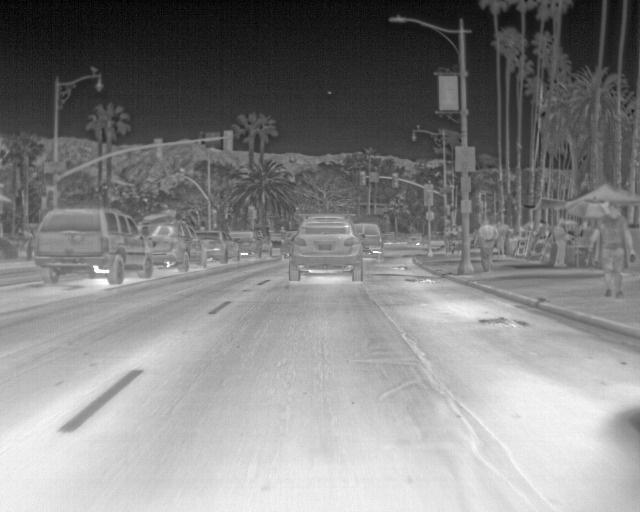bicycle: (33, 206, 155, 284), (286, 212, 364, 279), (136, 219, 204, 272), (196, 229, 239, 263), (349, 222, 385, 260), (229, 228, 260, 256), (257, 225, 274, 257), (405, 232, 427, 248)
empty: (594, 201, 633, 301), (475, 218, 503, 273), (552, 218, 575, 269)
